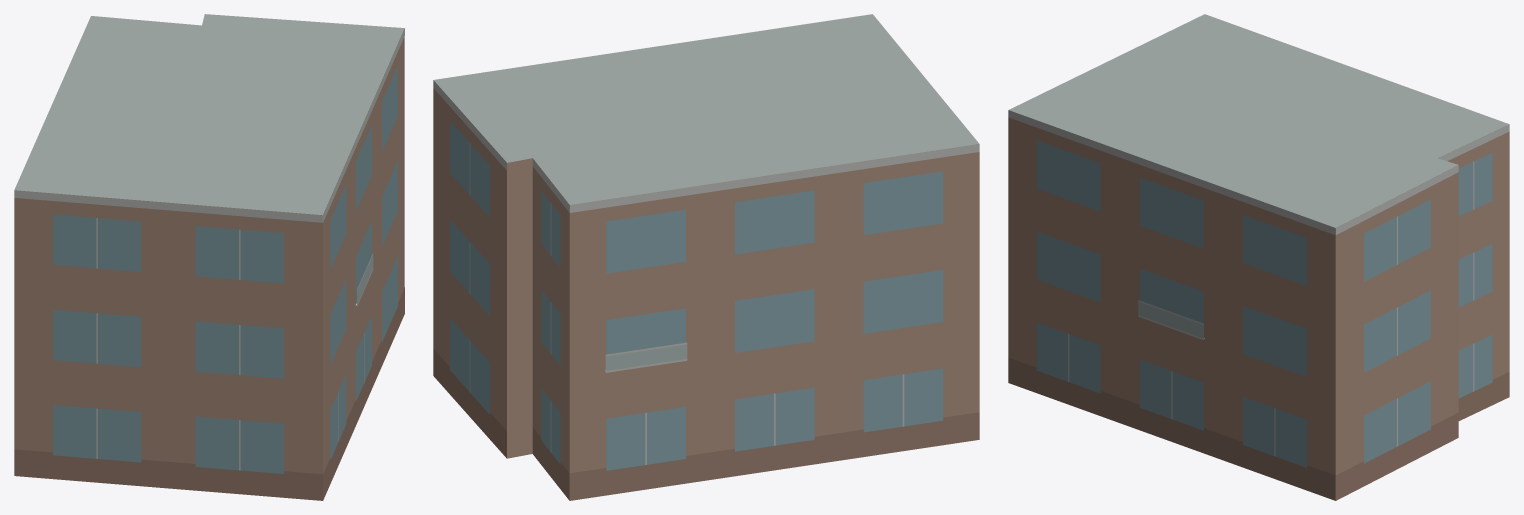
Rendered from survey-upis-32539863.glb.
3 renders of one model, left to right at view 1: azimuth 30°, elevation 25°; view 2: azimuth 150°, elevation 25°; view 3: azimuth 270°, elevation 25°, orthographic. The views are drawn at different scales.
Visible parts, largest first — view 1: survey-upis-32539863.tmp; view 2: survey-upis-32539863.tmp; view 3: survey-upis-32539863.tmp.
Boxes of the visible parts, left/top/right/bottom form: survey-upis-32539863.tmp: left=14, top=14, right=404, bottom=500; survey-upis-32539863.tmp: left=433, top=14, right=979, bottom=500; survey-upis-32539863.tmp: left=1008, top=14, right=1509, bottom=500.
Size of the model in its own units: 15.31 by 9.1 by 15.15.
